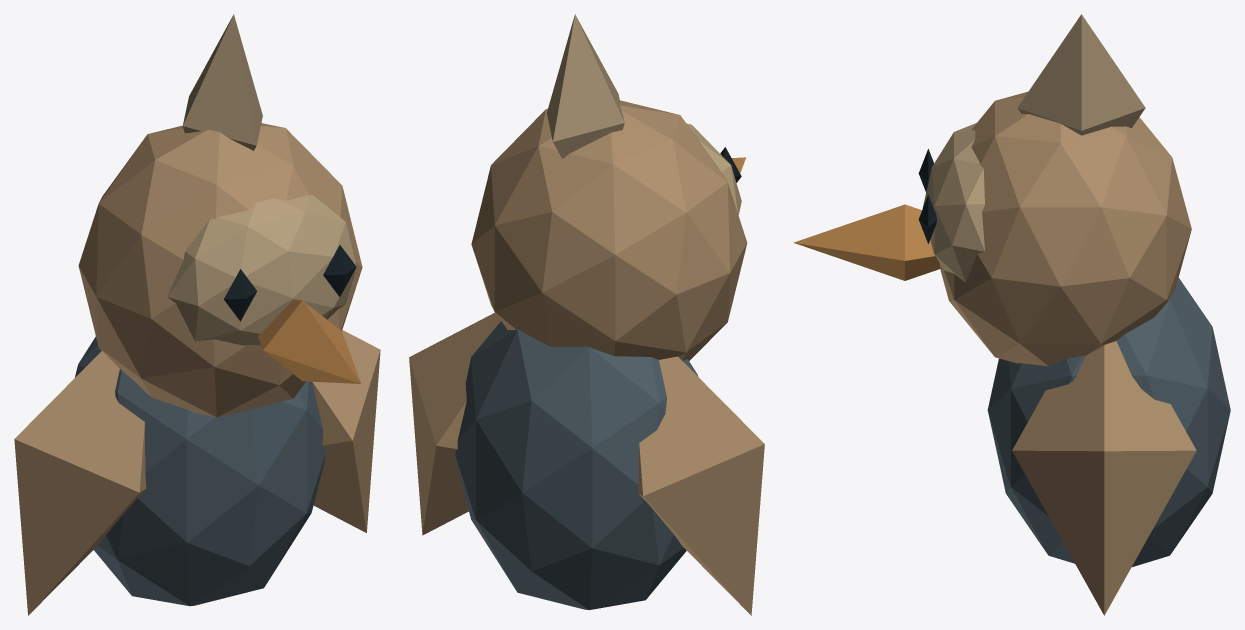
File: cragbeak.glb
3 views of the same model, side by side, from view 1: azimuth 30°, elevation 25°; view 2: azimuth 150°, elevation 25°; view 3: azimuth 270°, elevation 25° (orthographic). The views are drawn at different scales.
Parts seen in each view (by area): view 1: cragbeak; view 2: cragbeak; view 3: cragbeak.
Boxes of the visible parts, x1,y1,x2,y2 form: cragbeak: (14,14,380,615); cragbeak: (409,14,764,615); cragbeak: (793,14,1230,615).
Size of the model in its own units: 0.8254 by 1.28 by 0.9001.
